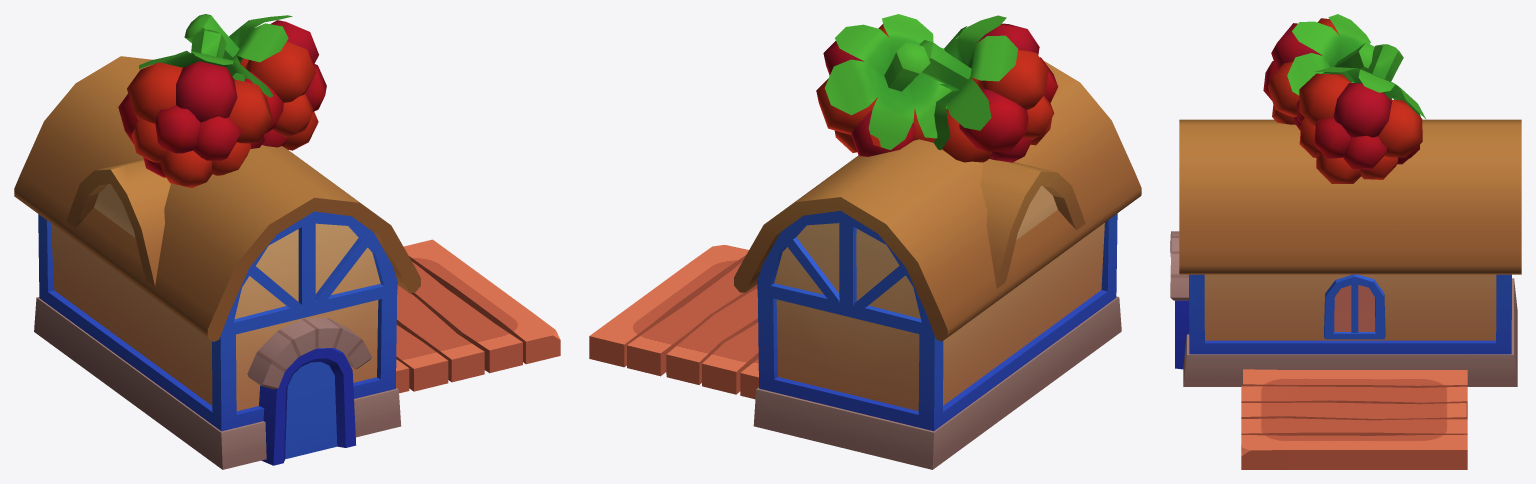
The model's file is STRAWBERRY HOUSE.fbx.
3 renders of one model, left to right at view 1: azimuth 30°, elevation 25°; view 2: azimuth 150°, elevation 25°; view 3: azimuth 270°, elevation 25°, orthographic. The views are drawn at different scales.
Parts seen in each view (by area): view 1: Cube.023; view 2: Cube.023; view 3: Cube.023.
Boxes of the visible parts, x1,y1,x2,y2 form: Cube.023: (14,14,560,469); Cube.023: (589,14,1141,469); Cube.023: (1170,14,1521,469).
Size of the model in its own units: 1.54 by 1.33 by 1.36.
